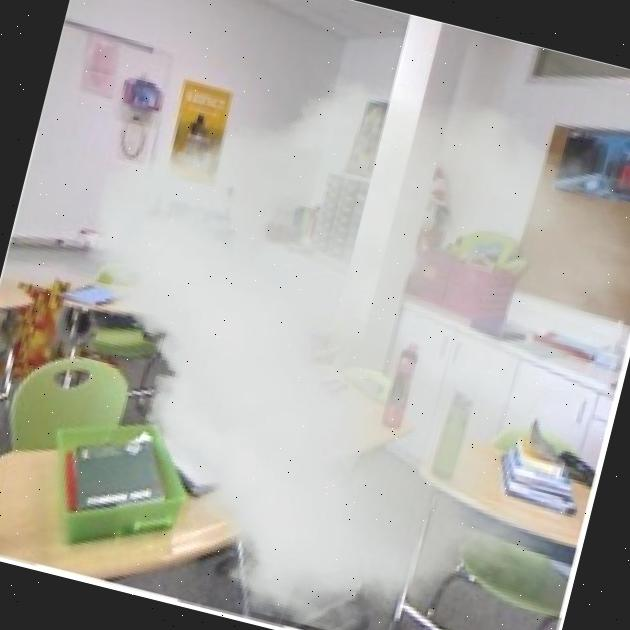smoke: (9, 18, 630, 630)
